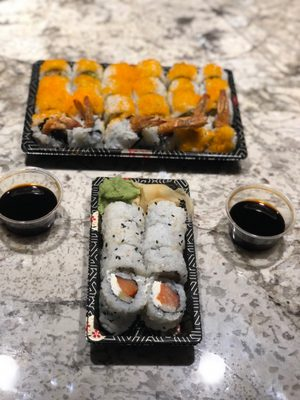pizza: (226, 183, 296, 251)
sushi: (22, 58, 247, 166), (0, 168, 63, 237)
